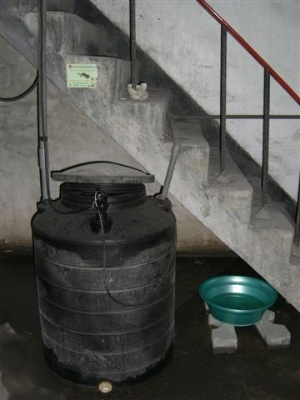bowl: (198, 274, 279, 325)
bucket: (31, 182, 175, 385)
